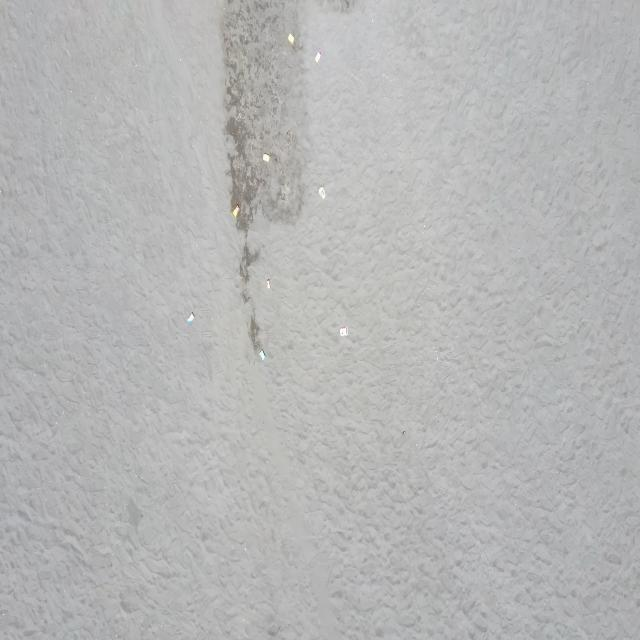retort-pouch: (232, 203, 240, 218), (339, 325, 348, 338), (315, 48, 323, 62), (288, 33, 296, 47), (187, 312, 194, 326), (259, 348, 266, 362), (263, 151, 270, 163), (319, 186, 326, 198), (266, 278, 272, 290)
